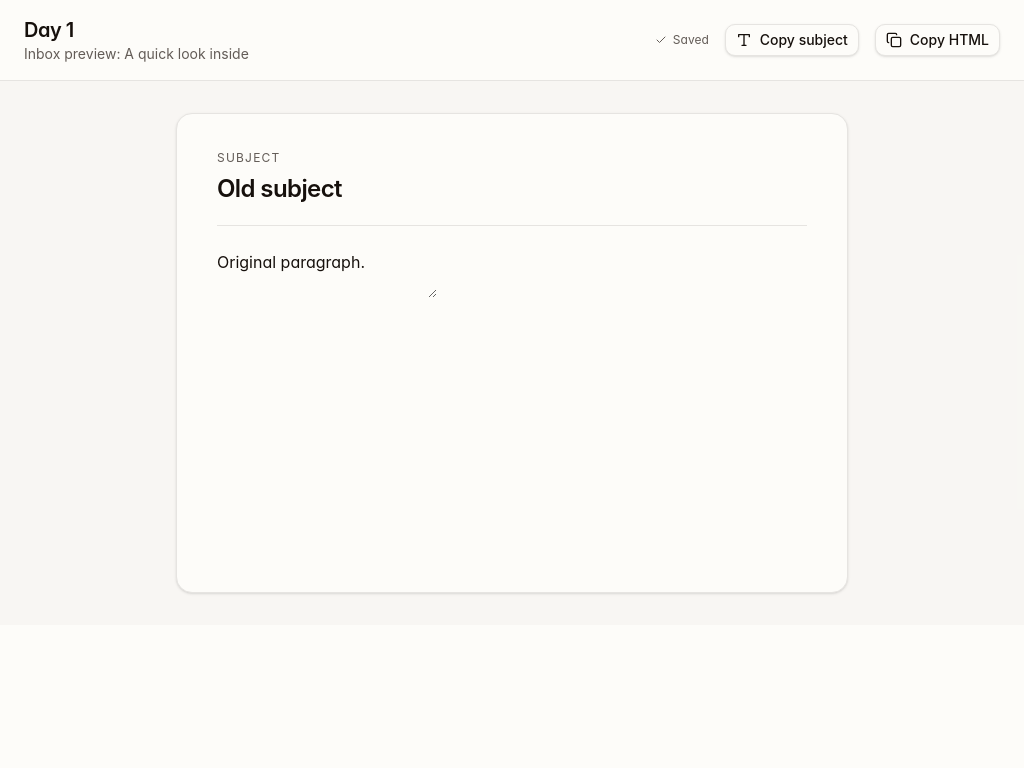
Test: EmailPreview copy › copies the subject as typed
The width and height of the screenshot is (1024, 768).
Replace the text in the text box named "subject" with "Typed subject" at (512, 188), box 217,172 -> 807,205
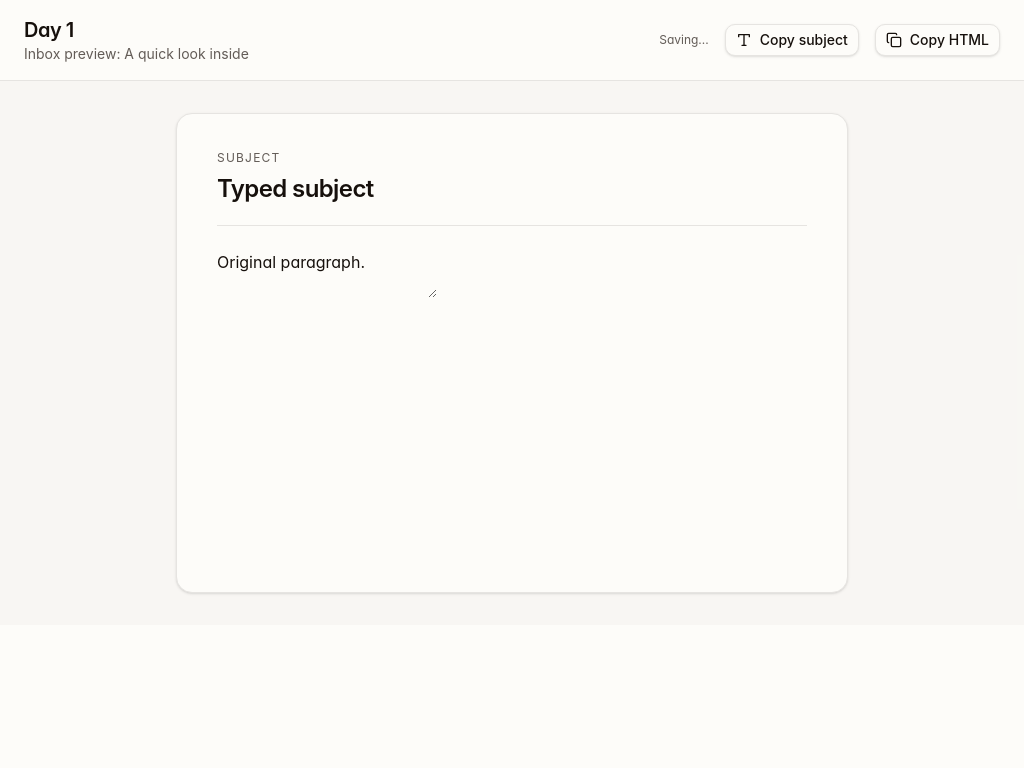
Click the button "Copy subject" at (792, 40), box 725,24 -> 859,56
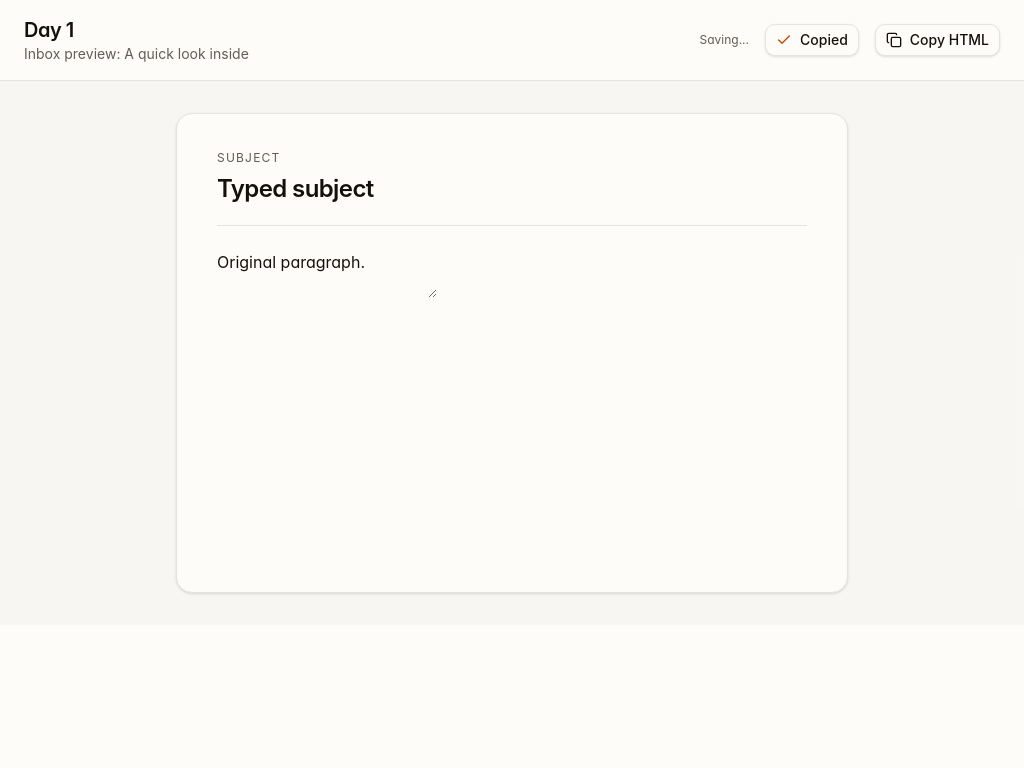
Expected: the text "Copy HTML" is shown, 910,30 -> 989,50
Expected: the text "Copied" is shown, 800,30 -> 848,50
